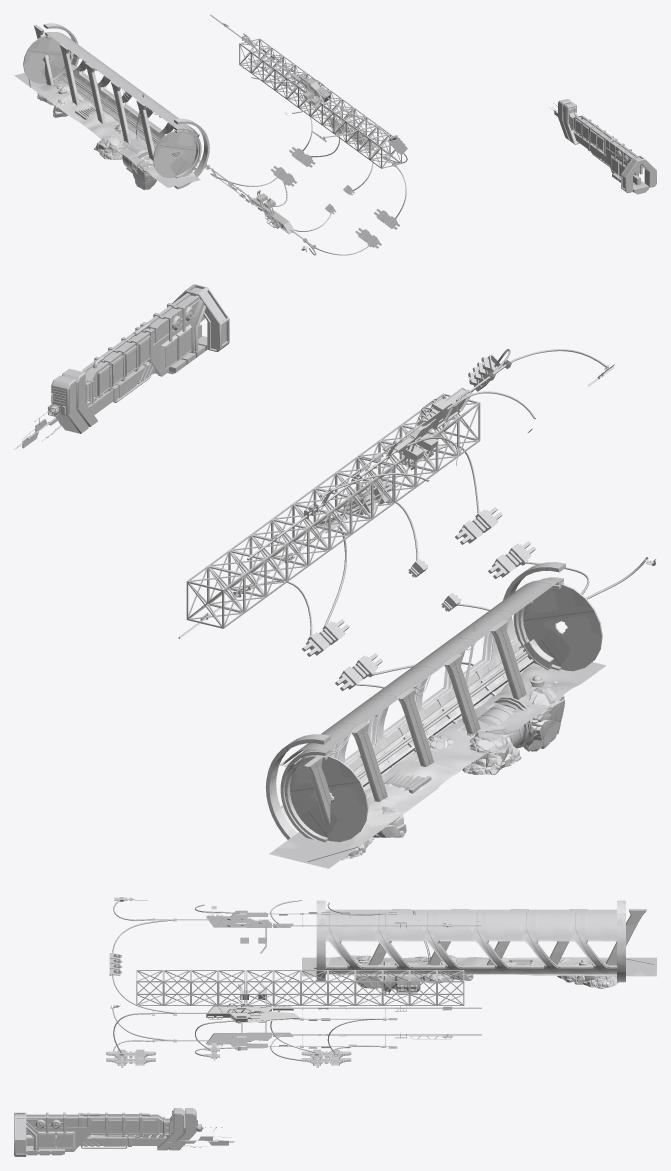
File: background_onemedh.fbx
3 renders of one model, top to bottom at view 1: azimuth 30°, elevation 25°; view 2: azimuth 150°, elevation 25°; view 3: azimuth 270°, elevation 25°, orthographic. The views are drawn at different scales.
Visible parts, largest first — view 1: tankB8_GEO; view 2: tankB8_GEO; view 3: tankB8_GEO.
Boxes of the visible parts, bbox=[...] form: tankB8_GEO: bbox=[14, 14, 656, 255]; tankB8_GEO: bbox=[14, 284, 655, 868]; tankB8_GEO: bbox=[14, 897, 656, 1156].
Bounding box in the file's own units: 41.96 × 14.88 × 54.34.
Materials: 1 (1 with a texture image).
